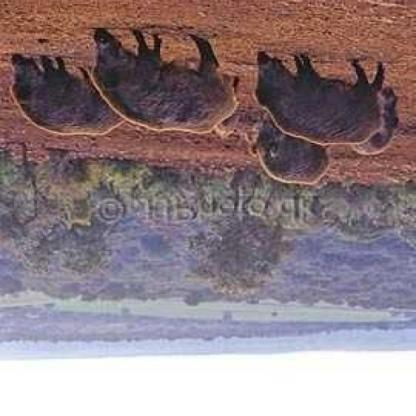boar: (84, 20, 238, 147), (250, 30, 388, 147), (3, 47, 123, 134), (239, 116, 340, 191)
